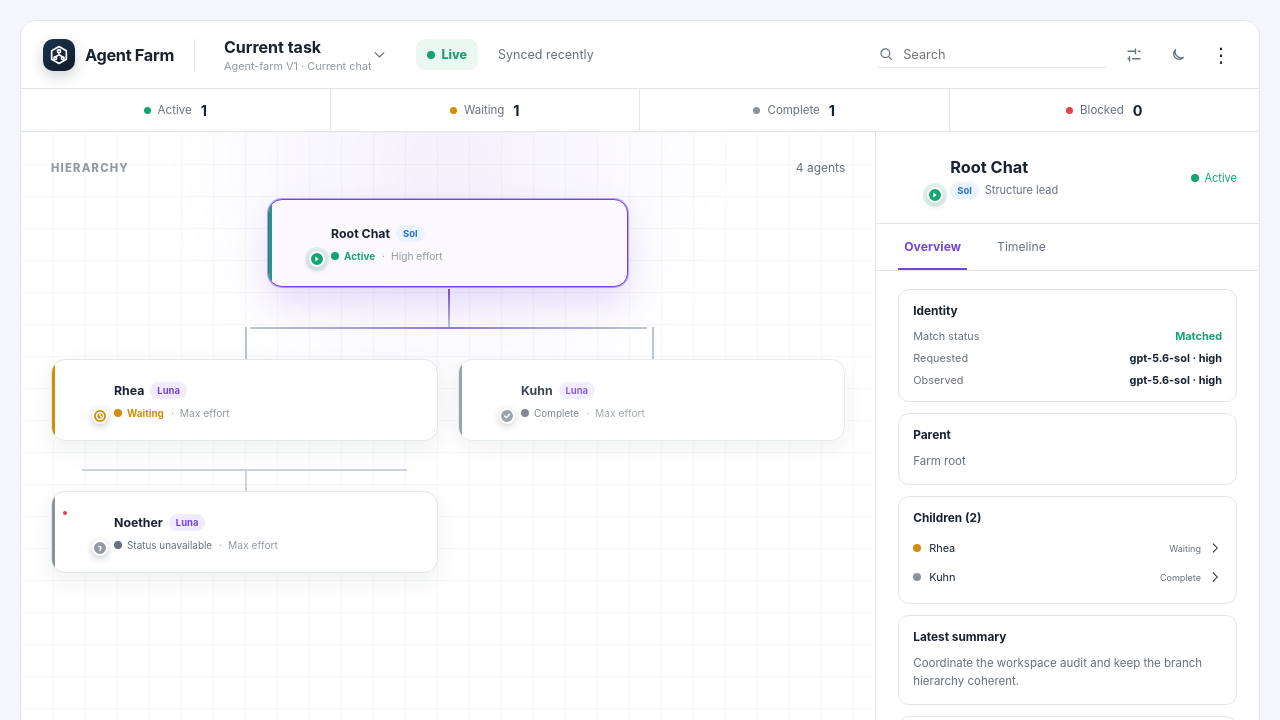
it: production public hierarchy › collapses project chat folders and reopens a matching folder during search
Click the button "Current task Agent-farm V1 · Current chat" at {"x": 305, "y": 54}, box 215,30 -> 396,80
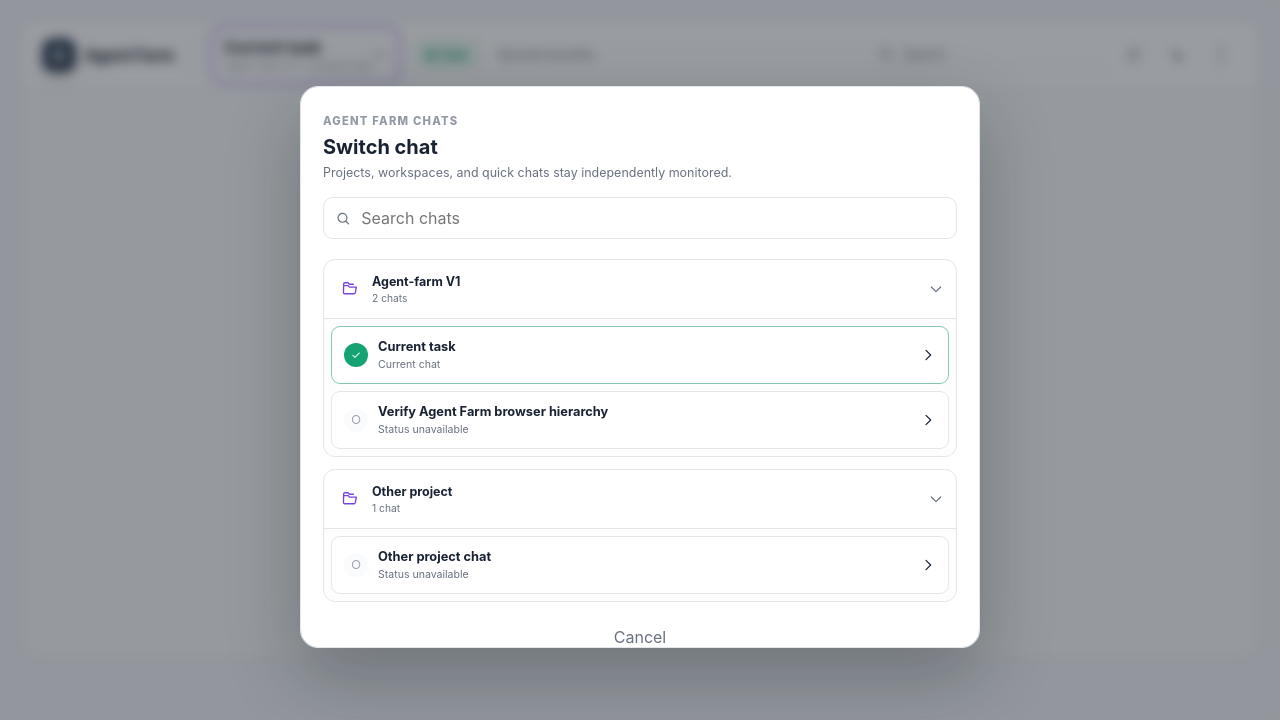
Check: the button "○ Verify Agent Farm browser hierarchy Status unavailable" is shown, box 331,391 -> 949,449
Click the button with aria-label "Agent-farm V1, 2 chats, collapse project folder" at {"x": 416, "y": 282}, box 324,260 -> 956,318
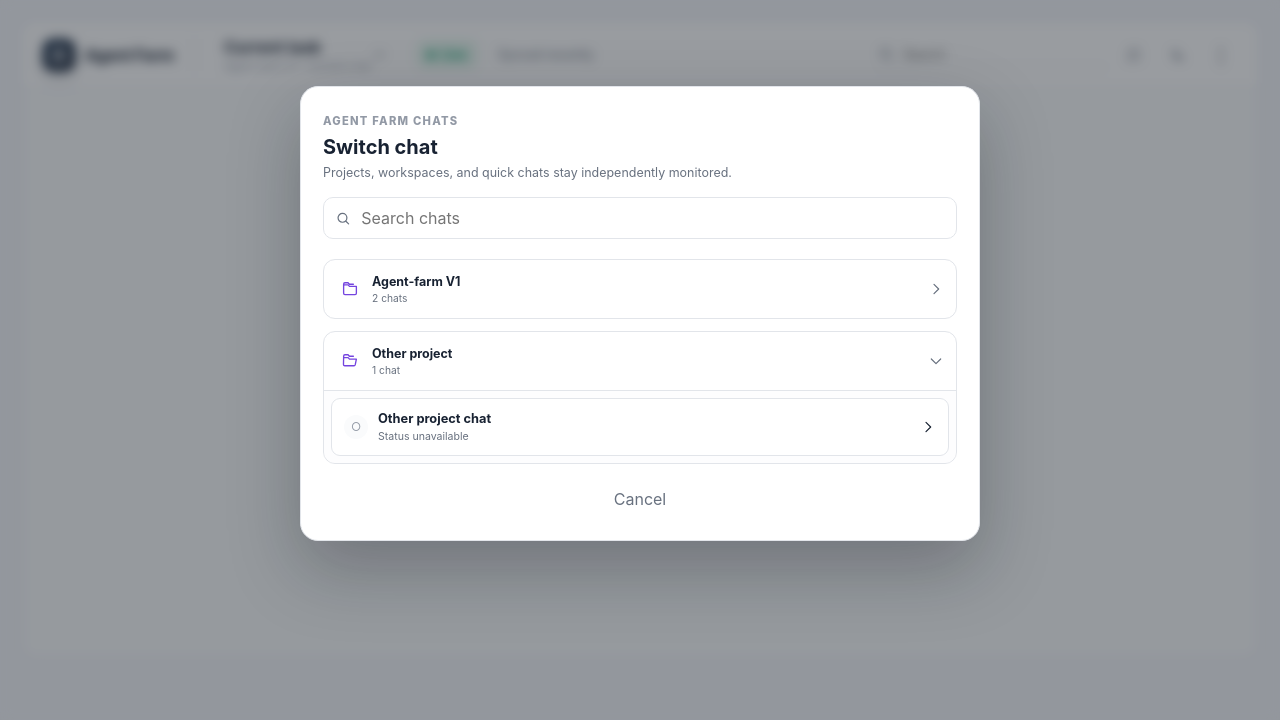
Check: the button named "Agent-farm V1, 2 chats, collapse project folder" is collapsed, box 324,260 -> 956,318
Check: the button "Verify Agent Farm browser hierarchy" is gone
Type "Verify Agent Farm" into the search field labelled "Search chats" at {"x": 652, "y": 218}, box 359,207 -> 945,229
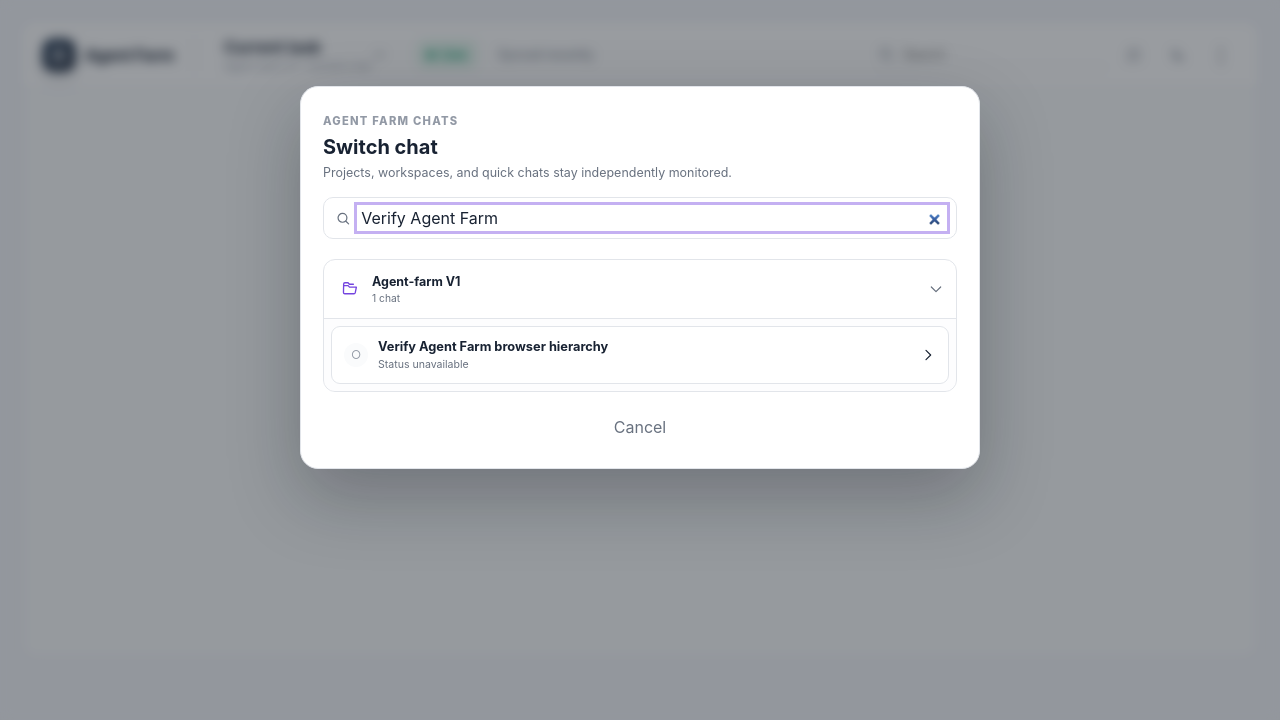
Check: the button "○ Verify Agent Farm browser hierarchy Status unavailable" is shown, box 331,326 -> 949,384
Check: the button named "Agent-farm V1, 2 chats, collapse project folder" is expanded, box 324,260 -> 956,318
